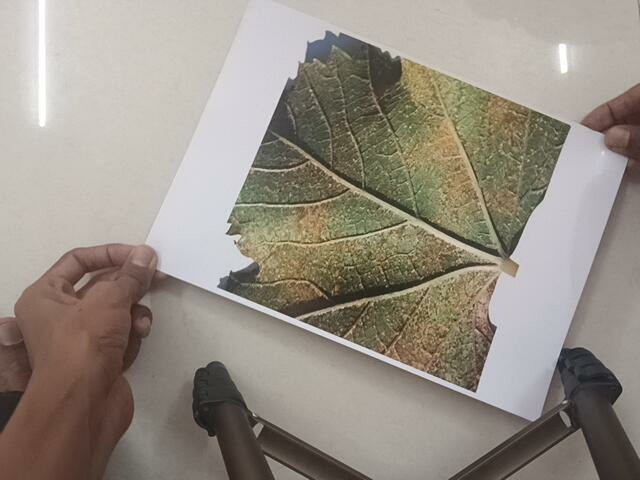Grape_Rust_Fungus: (229, 38, 566, 379)
